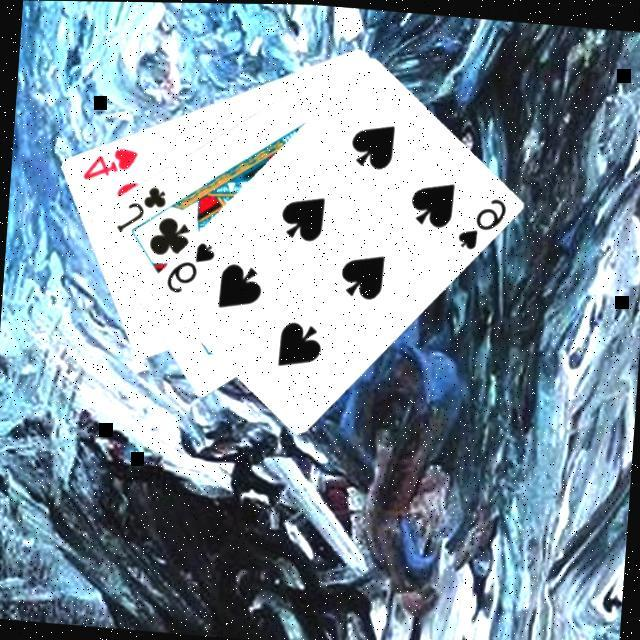4H: (78, 137, 141, 185)
6S: (454, 188, 511, 253), (161, 234, 219, 297)
JC: (112, 176, 171, 237)
